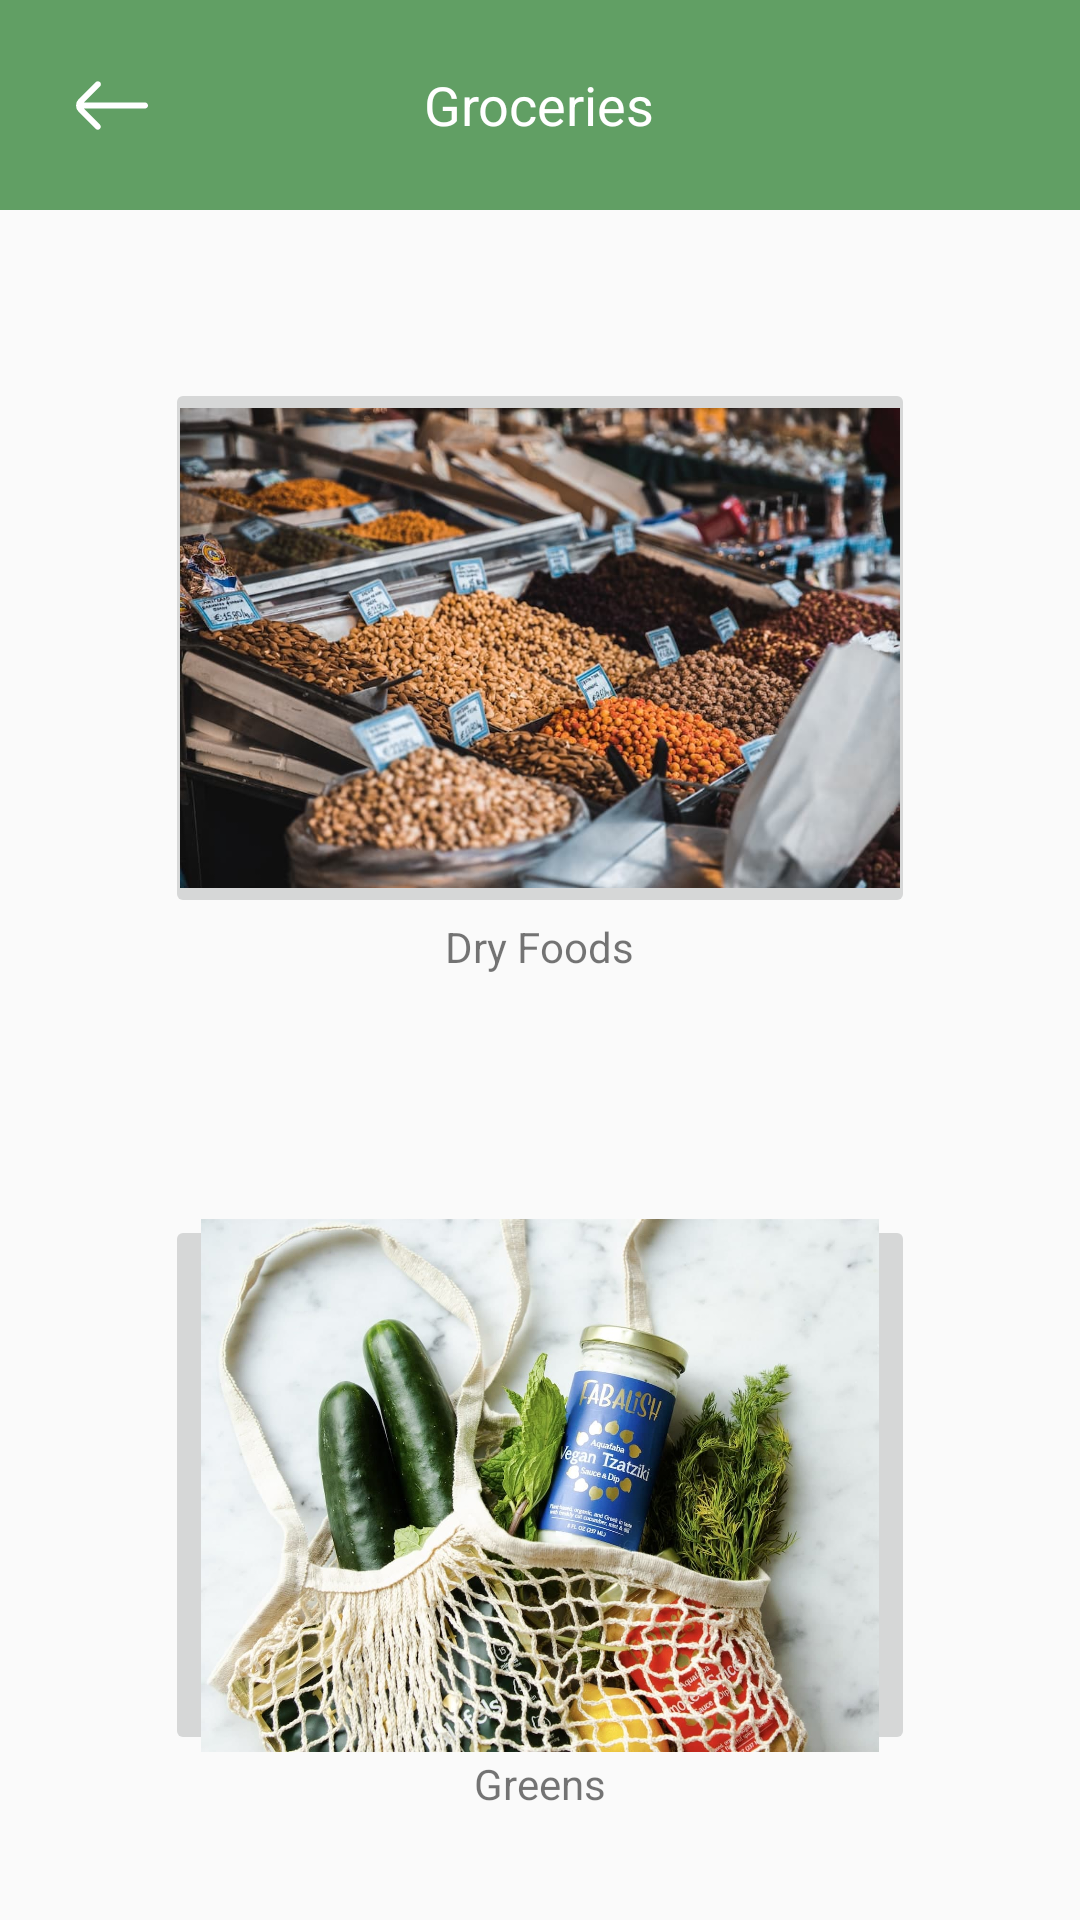

Named icons in this screenshot (1080x1920) and their bounding boxes, [x1,y1,x2,y2]:
return: [76,81,148,130]
